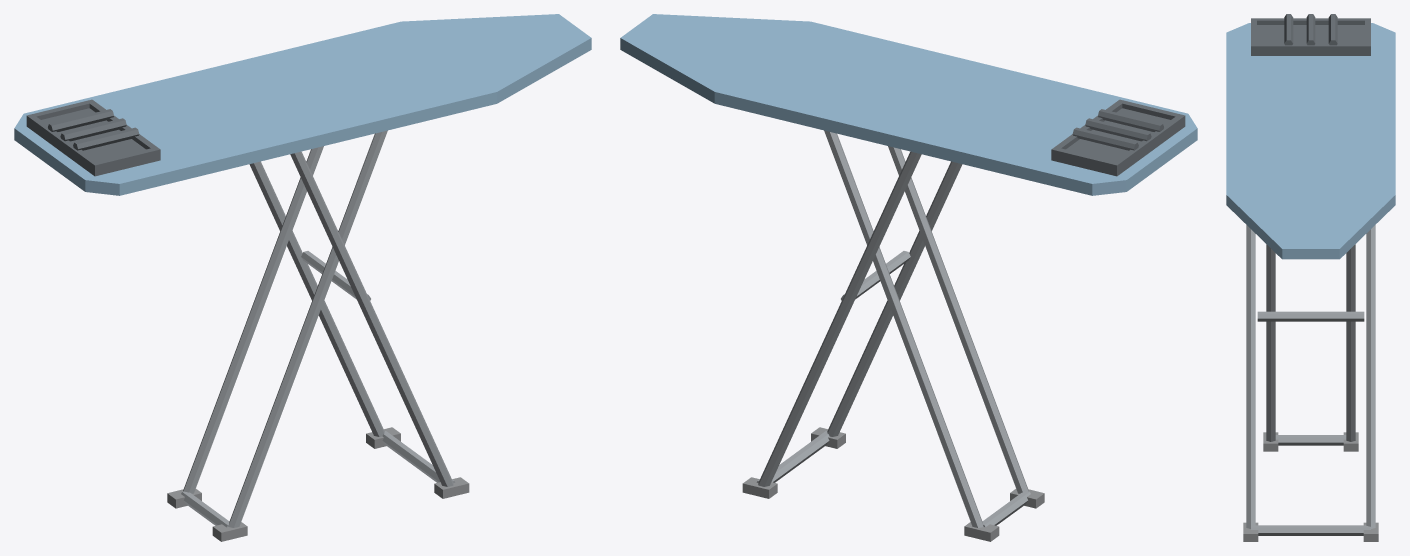
The model's file is SM_LPI_Util_IronBoard_01.fbx.
3 renders of one model, left to right at view 1: azimuth 30°, elevation 25°; view 2: azimuth 150°, elevation 25°; view 3: azimuth 270°, elevation 25°, orthographic. The views are drawn at different scales.
Parts seen in each view (by area): view 1: SM_LPI_Util_IronBoard_01; view 2: SM_LPI_Util_IronBoard_01; view 3: SM_LPI_Util_IronBoard_01.
Part boxes in pixels (x1,y1,x2,y2): SM_LPI_Util_IronBoard_01: (14,14,591,541); SM_LPI_Util_IronBoard_01: (620,14,1197,541); SM_LPI_Util_IronBoard_01: (1226,14,1395,541).
Size of the model in its own units: 1.2 by 0.9214 by 0.38.
